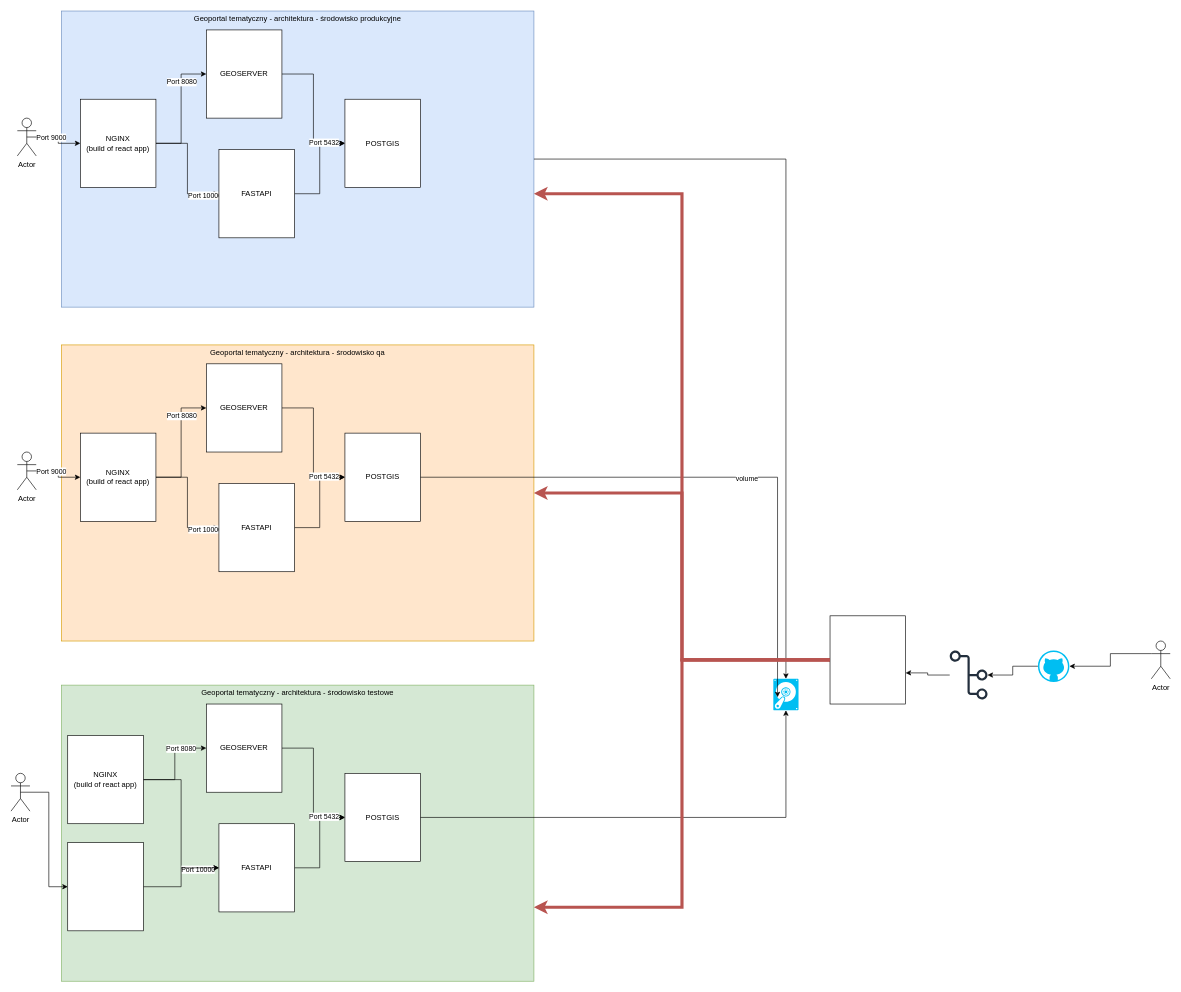
This 1181x992 diagram has some shape labels left out. The centre of each missing label's shape, as x and y in pixels:
"GITHUB RUNNER" belongs at (x=867, y=659).
"NODE" belongs at (x=105, y=886).
